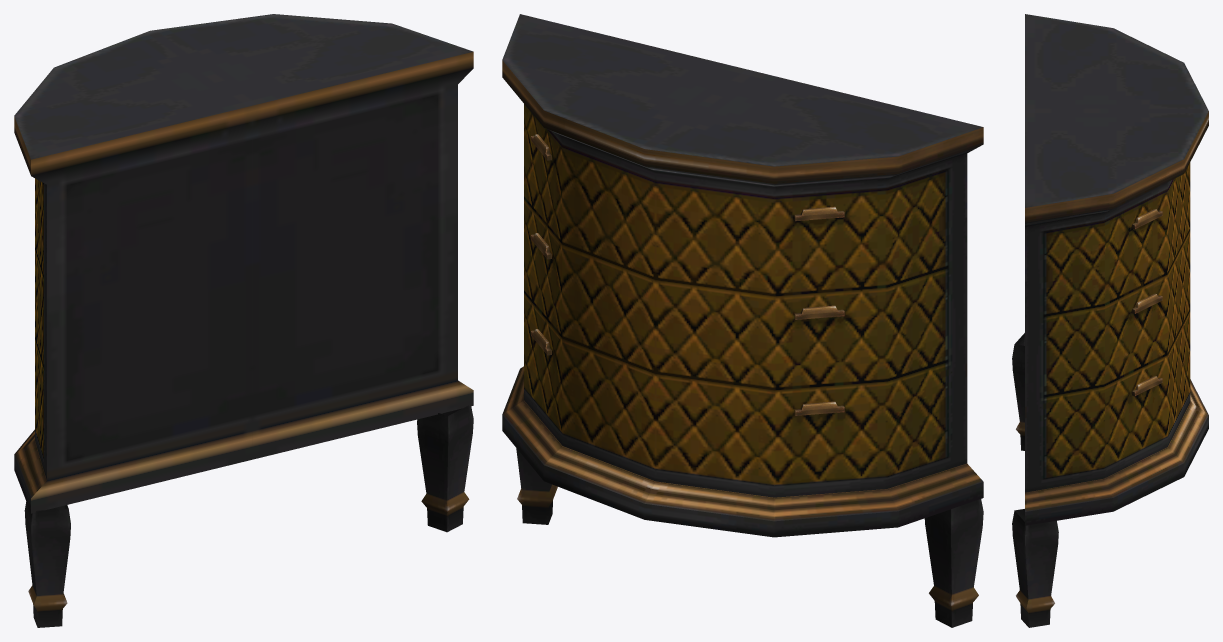
File: furni_0200318_03.FBX
The picture shows the model from 3 angles, left to right: view 1: azimuth 30°, elevation 25°; view 2: azimuth 150°, elevation 25°; view 3: azimuth 270°, elevation 25°; orthographic projection. The views are drawn at different scales.
Parts seen in each view (by area): view 1: furni_0200318_03; view 2: furni_0200318_03; view 3: furni_0200318_03.
Part boxes in pixels (left/top/right/bottom): furni_0200318_03: left=14, top=14, right=473, bottom=627; furni_0200318_03: left=502, top=14, right=983, bottom=627; furni_0200318_03: left=1012, top=14, right=1208, bottom=627.
Size of the model in its own units: 78.52 by 80 by 33.67.
